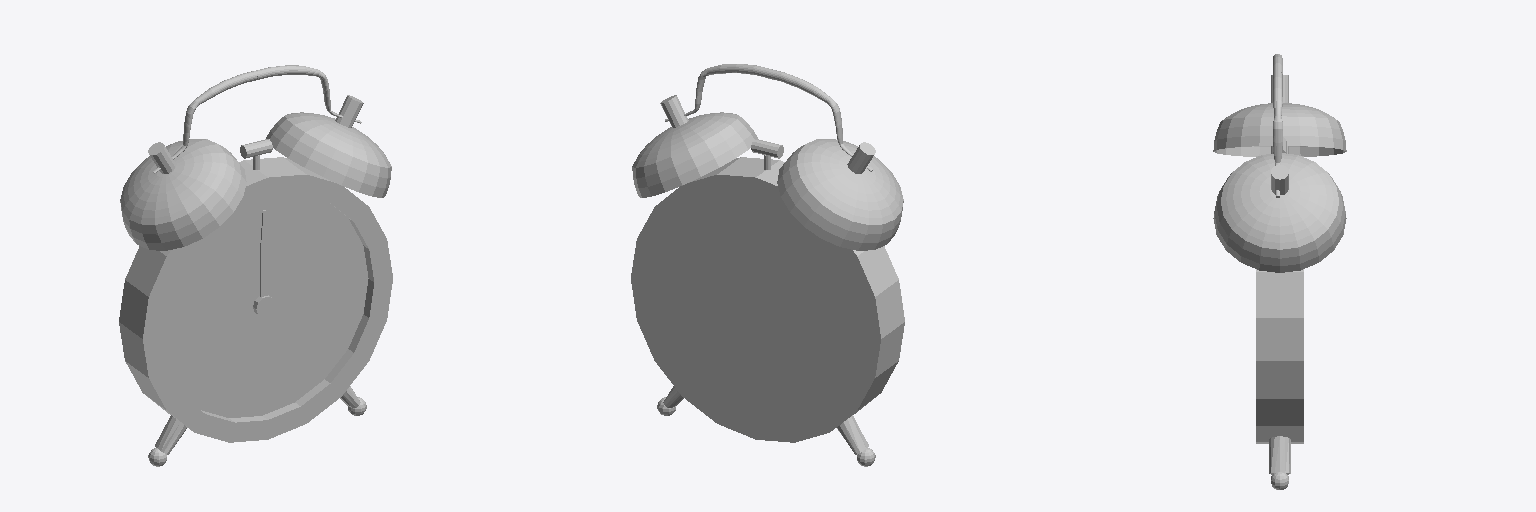
Rendered from Alarm_Clock.obj.
3 views of the same model, side by side, from view 1: azimuth 30°, elevation 25°; view 2: azimuth 150°, elevation 25°; view 3: azimuth 270°, elevation 25° (orthographic).
Visible parts, largest first — view 1: pCylinder1, pSphere1, pSphere2, pCylinder7, pCylinder8, group2 pCylinder6, pCube1, pCylinder4, pCylinder5; view 2: pCylinder1, pSphere1, pSphere2, pCylinder7, pCylinder8, group2 pCylinder6, pCylinder4, pCylinder5; view 3: pSphere2, pCylinder1, pSphere1, pCylinder8, group1 pCylinder6.
Part boxes in pixels (x1,y1,x2,y2): pCylinder1: (119, 157, 392, 442); pSphere1: (120, 139, 246, 250); pSphere2: (266, 112, 391, 197); pCylinder7: (153, 70, 257, 173); pCylinder8: (255, 65, 361, 123); group2 pCylinder6: (155, 415, 186, 454); pCube1: (260, 210, 267, 296); pCylinder4: (148, 142, 176, 173); pCylinder5: (335, 95, 363, 127); pCylinder1: (631, 157, 904, 442); pSphere1: (777, 139, 903, 250); pSphere2: (632, 112, 757, 197); pCylinder7: (765, 69, 873, 171); pCylinder8: (665, 64, 772, 121); group2 pCylinder6: (837, 415, 868, 454); pCylinder4: (847, 142, 875, 173); pCylinder5: (660, 95, 688, 127); pSphere2: (1213, 153, 1346, 272); pCylinder1: (1256, 156, 1303, 443); pSphere1: (1213, 103, 1346, 156); pCylinder8: (1273, 69, 1282, 197); group1 pCylinder6: (1269, 436, 1290, 474).
Bounding box in the file's own units: 16.85 × 23.62 × 7.66.